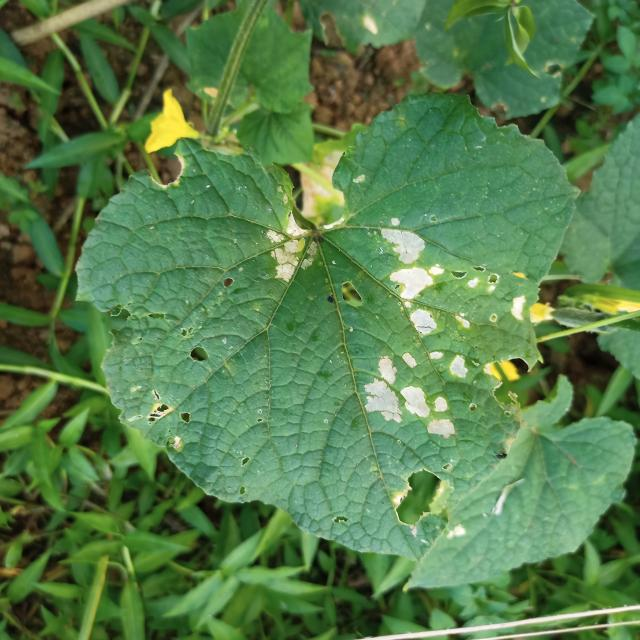disease_cucumber: (367, 213, 536, 351), (354, 351, 491, 457), (249, 206, 324, 292)
